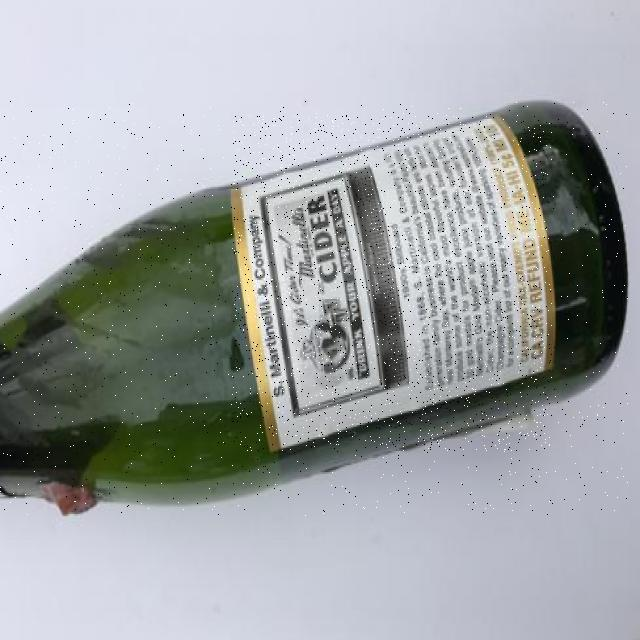glass: (0, 102, 628, 516)
paper: (231, 116, 553, 451)
